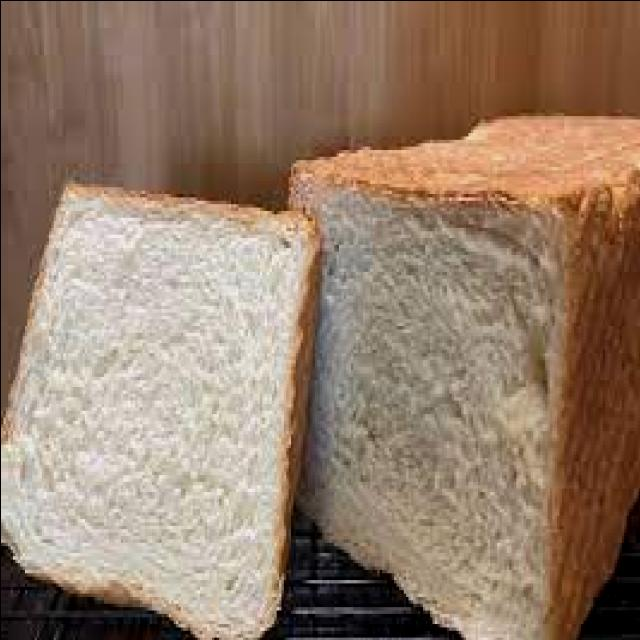roti tawar: (0, 179, 324, 640)
